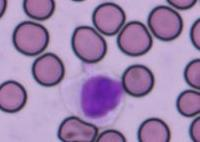M: (71, 70, 126, 127)
